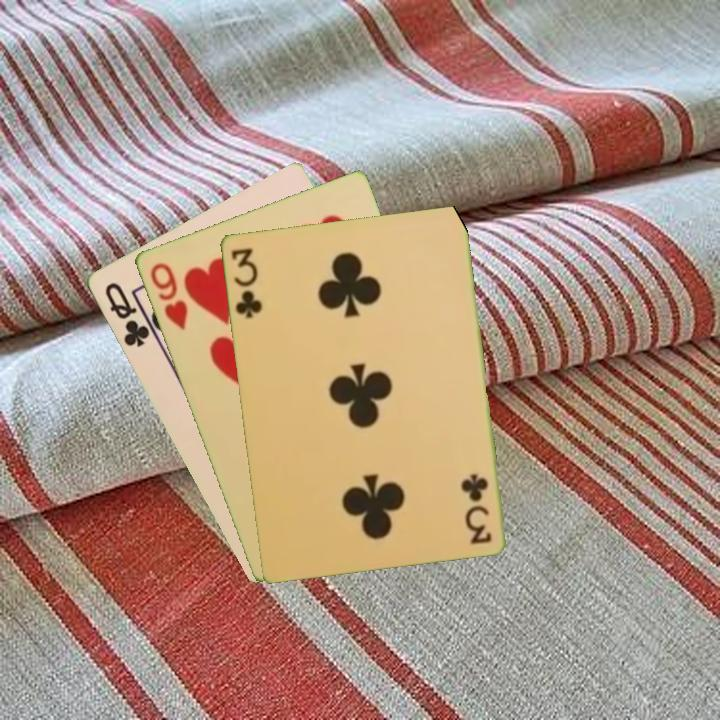3c: (227, 244, 265, 321), (460, 470, 494, 547)
9h: (146, 259, 190, 333)
Qc: (100, 278, 153, 350)
